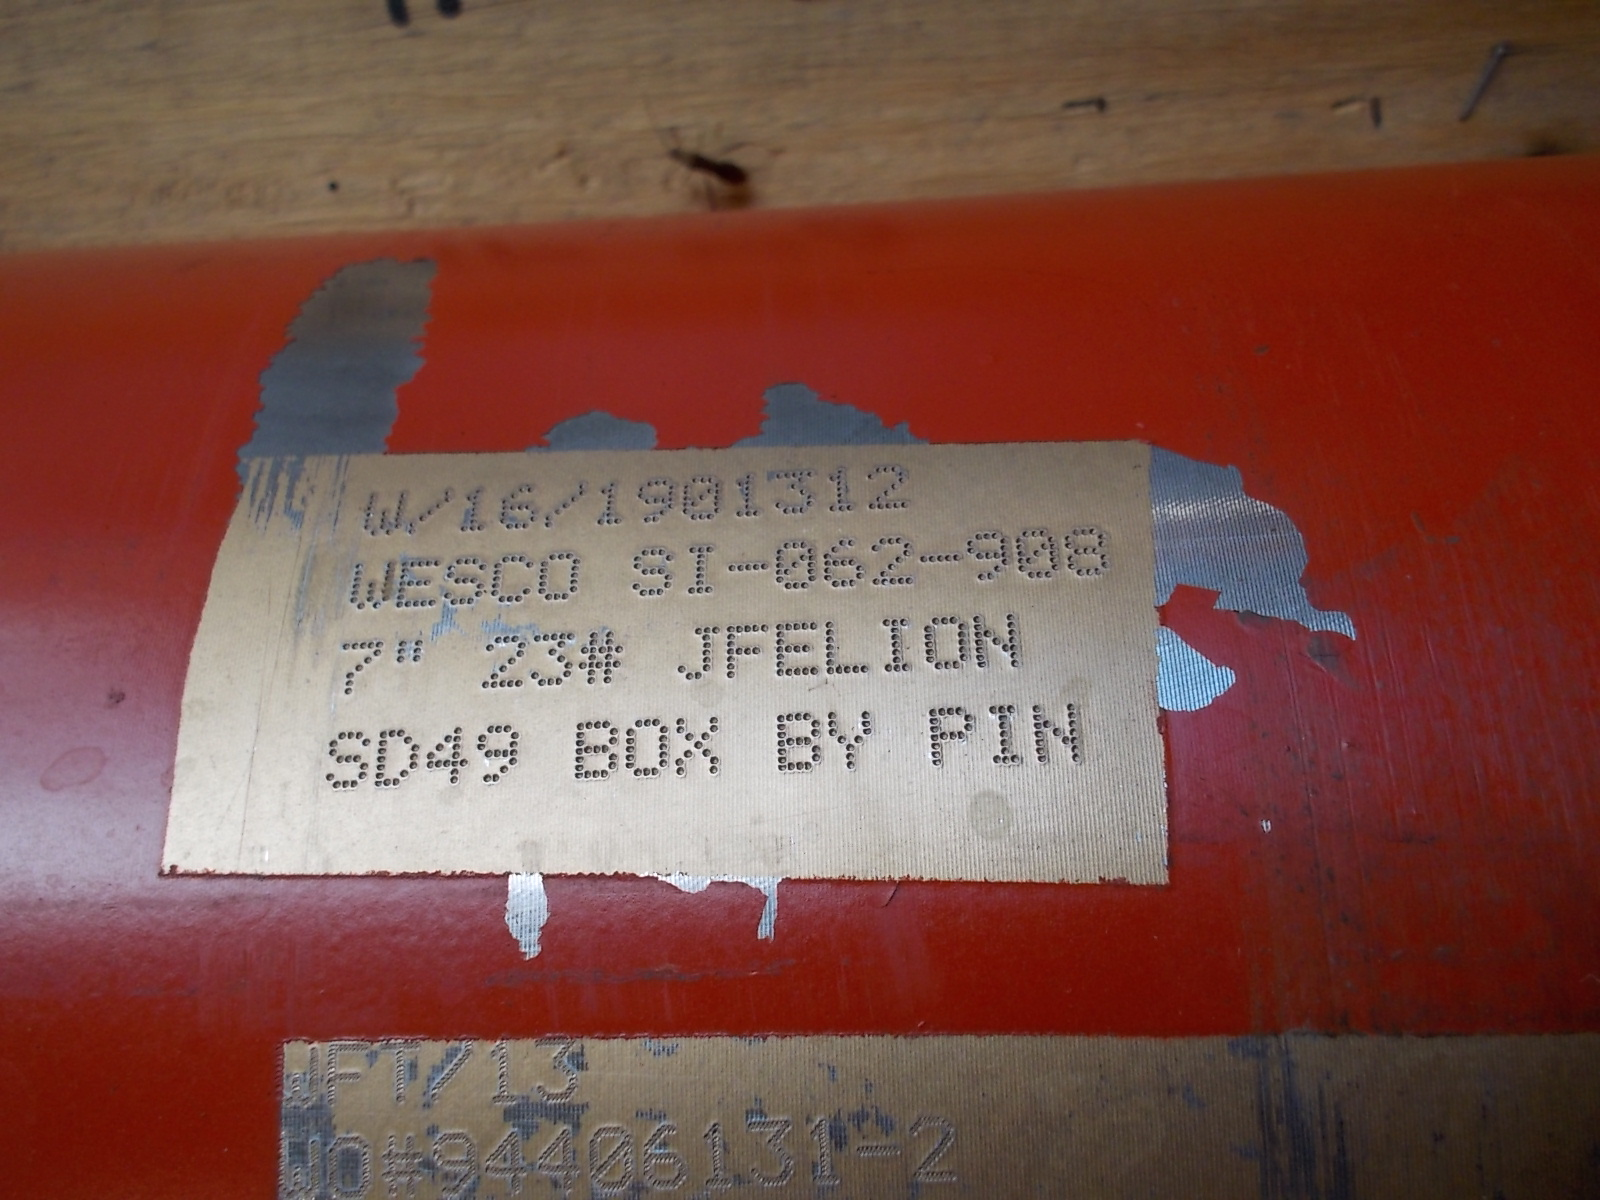character: (525, 1022, 593, 1108), (912, 1111, 979, 1195), (741, 1111, 805, 1197), (921, 698, 985, 776), (1026, 697, 1089, 773), (636, 1118, 695, 1196), (423, 1029, 477, 1113), (1063, 521, 1126, 591), (370, 1030, 423, 1113), (319, 724, 375, 800), (532, 1123, 588, 1197), (323, 1030, 370, 1116), (824, 710, 881, 779), (671, 713, 726, 785), (969, 609, 1032, 671), (330, 633, 387, 701), (377, 721, 425, 800), (588, 1118, 636, 1197), (483, 1123, 532, 1200), (270, 1041, 321, 1112), (275, 1127, 325, 1199), (569, 715, 624, 782), (805, 1111, 847, 1197), (477, 1029, 523, 1108), (475, 626, 527, 696), (859, 459, 921, 517), (700, 1111, 741, 1199), (380, 1129, 430, 1200), (325, 1127, 374, 1197), (1013, 524, 1065, 591), (578, 625, 630, 692), (624, 541, 683, 599), (670, 621, 724, 684), (527, 626, 576, 696), (772, 616, 825, 681), (404, 479, 456, 545), (430, 1129, 477, 1199), (775, 710, 824, 776), (624, 713, 671, 782), (825, 616, 876, 681), (534, 550, 590, 608), (965, 524, 1013, 591), (921, 611, 969, 678), (489, 478, 540, 539), (724, 616, 771, 684), (774, 533, 821, 597), (765, 466, 816, 526), (472, 721, 519, 787), (985, 698, 1026, 773), (821, 533, 871, 594), (489, 550, 534, 615), (425, 721, 467, 789), (871, 532, 917, 594), (677, 471, 726, 529), (360, 482, 404, 546), (442, 555, 489, 615), (876, 616, 921, 678), (540, 479, 587, 538), (346, 557, 396, 613), (396, 555, 442, 613), (632, 474, 675, 529), (683, 534, 719, 599), (587, 476, 625, 538), (816, 466, 859, 517), (726, 471, 765, 526), (456, 482, 488, 542), (850, 1139, 907, 1167), (393, 634, 425, 666), (726, 560, 769, 582), (918, 548, 964, 568)
